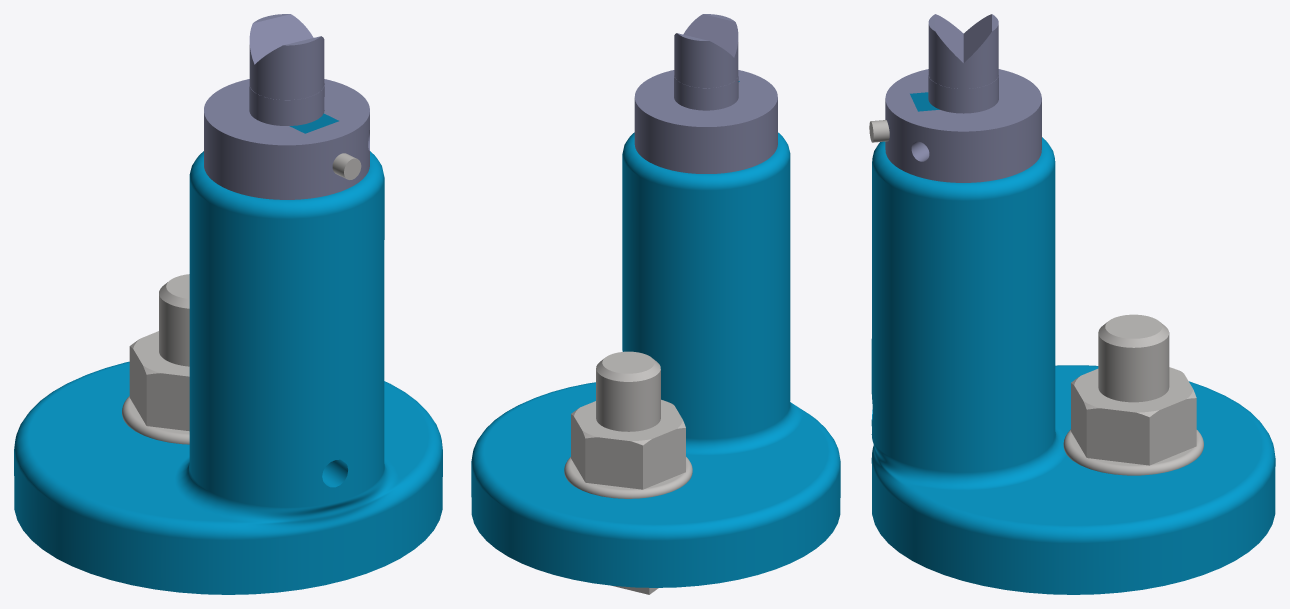
The picture shows the model from 3 angles, left to right: view 1: azimuth 30°, elevation 25°; view 2: azimuth 150°, elevation 25°; view 3: azimuth 270°, elevation 25°; orthographic projection. The views are drawn at different scales.
Visible parts, largest first — view 1: Solid1 (×8); view 2: Solid1 (×7); view 3: Solid1 (×7).
Boxes of the visible parts, x1,y1,x2,y2 form: Solid1 (×8): (14, 14, 442, 594); Solid1 (×7): (471, 14, 840, 594); Solid1 (×7): (871, 14, 1275, 594).
Bounding box in the file's own units: 0.0904 × 0.129 × 0.091.
